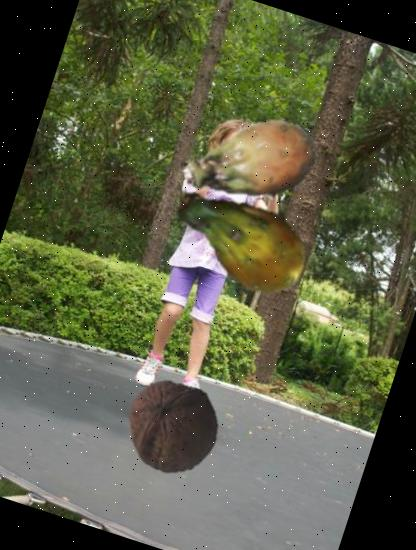Cactus: (150, 150, 329, 330), (162, 73, 336, 246)
Walnut: (112, 365, 234, 486)
